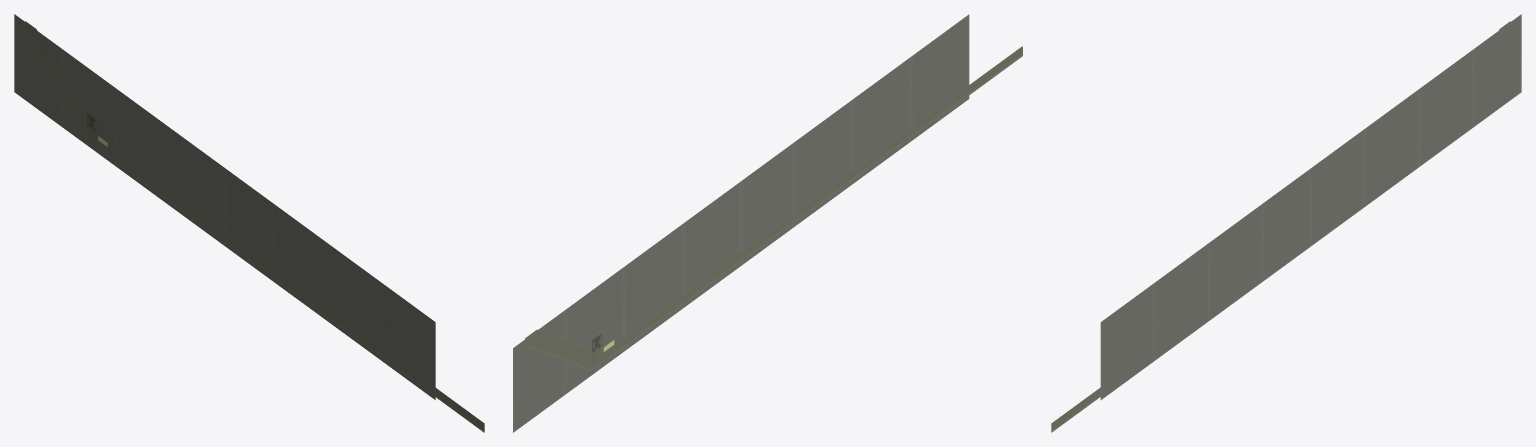
File: pref_sm_city_riverwall03b_snow_lv3.fbx
The picture shows the model from 3 angles, left to right: view 1: azimuth 30°, elevation 25°; view 2: azimuth 150°, elevation 25°; view 3: azimuth 330°, elevation 25°; orthographic projection. The views are drawn at different scales.
Parts seen in each view (by area): view 1: pref_sm_city_riverwall03b_snow_lv3; view 2: pref_sm_city_riverwall03b_snow_lv3; view 3: pref_sm_city_riverwall03b_snow_lv3.
Part boxes in pixels (x1,y1,x2,y2): pref_sm_city_riverwall03b_snow_lv3: (14, 14, 484, 432); pref_sm_city_riverwall03b_snow_lv3: (513, 14, 1022, 432); pref_sm_city_riverwall03b_snow_lv3: (1051, 14, 1521, 432).
Bounding box in the file's own units: 0.00687 × 2.46 × 26.42.
